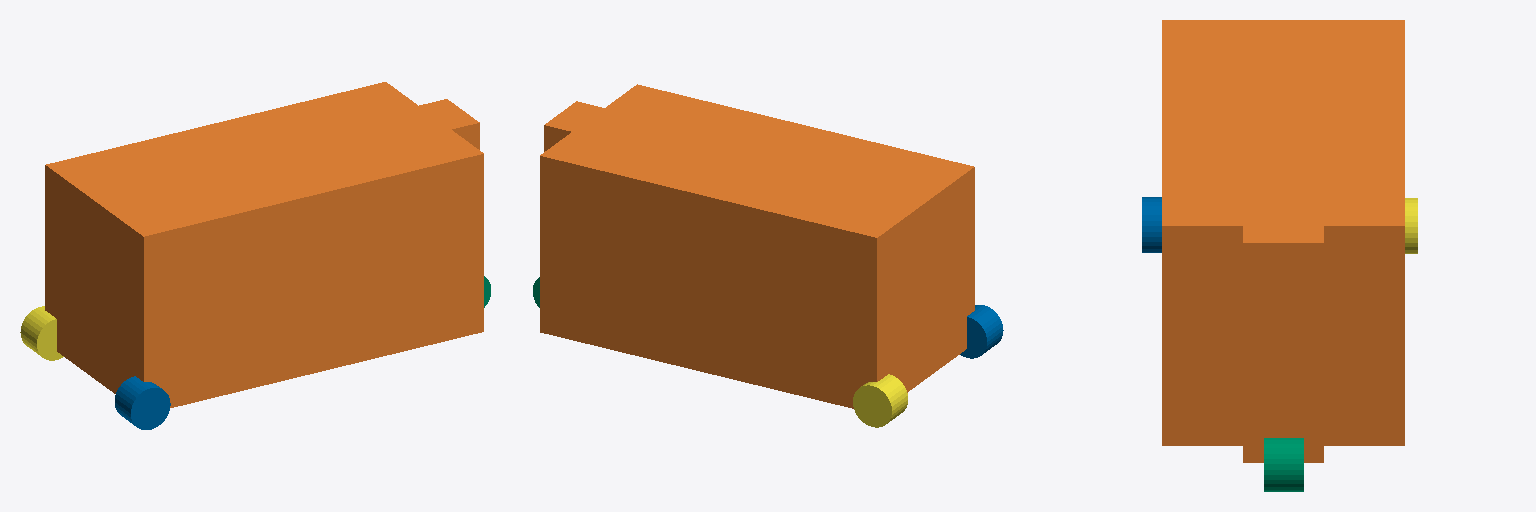
The robot description file, URDF, robot "tortoisebot":
<?xml version="1.0"?>
<robot name="tortoisebot">
    <link name="base_link">
    <visual>
        <geometry>
            <box size="0.6 0.3 0.3"/>
        </geometry>
        <material name="silver">
            <color rgba="0.95 0.55 0.23 1"/>
        </material>
    </visual>

    <collision>
        <geometry>
            <box size="0.6 0.3 0.3"/>
        </geometry>>
    </collision>>

    <inertial>
        <mass value="1.0"/>
         <inertia ixx="0.015" ixy="0.0" ixz="0.0"
          iyy="0.0375" iyz="0.0" izz="0.0375"/>
    </inertial>

    </link>
        
    <link name="front_caster">
        <visual>
            <geometry>
            <box size="0.1 0.1 0.3"/>
            </geometry>
            <material name="silver"/>
        </visual>
        <collision>
            <geometry>
                <box size="0.1 0.1 0.3"/>
            </geometry>
        </collision>
        <inertial>
            <mass value="0.1"/>
            <inertia ixx="0.00083" ixy="0.0" ixz="0.0"
             iyy="0.00083" iyz="0.0" izz="0.00016"/>
        </inertial>
    </link>

    <joint name="front_caster_joint" type="continuous">
        <axis xyz="0 0 1"/>
        <parent link="base_link"/>
        <child link="front_caster"/>
        <origin rpy="0 0 0" xyz="0.3 0 0"/>
    </joint>

    <link name="front_wheel">
        <visual>
            <geometry>
            <cylinder length="0.05" radius="0.035"/>
            </geometry>
            <material name="black"/>
        </visual>

        <collision>
            <geometry>
                <box size="0.07 0.07 0.05"/>
            </geometry>
        </collision>

        <inertial>
            <mass value="0.01"/>
            <inertia ixx="0.000447291666666667" ixy="0.0" ixz="0.0"
                 iyy="0.000447291666666667" iyz="0.0" izz="6.125e-05"/>
        </inertial>

    </link>

    <joint name="front_wheel_joint" type="continuous">
    <axis xyz="0 0 1"/>
    <parent link="front_caster"/>
    <child link="front_wheel"/>
    <origin rpy="-1.5708 0 0" xyz="0.05 0 -.15"/>
    </joint>
    

    <link name="right_wheel">
        <visual>
        <geometry>
            <cylinder length="0.05" radius="0.035"/>
        </geometry>
        <material name="black"/>
        </visual>
          <collision>
            <geometry>
                <box size="0.07 0.07 0.05"/>
            </geometry>
        </collision>

        <inertial>
             <mass value="0.01"/>
            <inertia ixx="0.000447291666666667" ixy="0.0" ixz="0.0"
                 iyy="0.000447291666666667" iyz="0.0" izz="6.125e-05"/>
        </inertial>
    </link>

    <joint name="right_wheel_joint" type="continuous">
    <axis xyz="0 0 1"/>
    <parent link="base_link"/>
    <child link="right_wheel"/>
    <origin rpy="-1.5708 0 0" xyz="-0.3 0.14 -0.13"/>
    </joint>
    


    <link name="left_wheel">
        <visual>
        <geometry>
        <cylinder length="0.05" radius="0.035"/>
        </geometry>
        <material name="black"/>
        </visual>
          <collision>
            <geometry>
                <box size="0.07 0.07 0.05"/>
            </geometry>
        </collision>

        <inertial>
             <mass value="0.01"/>
            <inertia ixx="0.000447291666666667" ixy="0.0" ixz="0.0"
                 iyy="0.000447291666666667" iyz="0.0" izz="6.125e-05"/>
        </inertial>
    </link>

    <joint name="left_whel_joint" type="continuous">
    <axis xyz="0 0 1"/>
    <parent link="base_link"/>
    <child link="left_wheel"/>
    <origin rpy="-1.5708 0 0" xyz ="-0.3017 -0.1498 -0.1295"/>
    </joint>
    
    </robot>

    

--- What the picture shows (computed from the rendered views, not written in the file) ---
Views: 3 orthographic renders of the robot side by side, from view 1: azimuth 30°, elevation 25°; view 2: azimuth 150°, elevation 25°; view 3: azimuth 270°, elevation 25°.
Model tortoisebot with 5 links and 4 joints (4 continuous), rooted at base_link, posed all joints at 0.
Links seen in each view (by area): view 1: base_link, left_wheel, right_wheel, front_caster; view 2: base_link, front_caster, right_wheel, left_wheel; view 3: base_link, front_caster, front_wheel, left_wheel, right_wheel.
Boxes of the visible links, bbox=[...] form: base_link: bbox=[45, 82, 483, 407]; left_wheel: bbox=[115, 376, 170, 429]; right_wheel: bbox=[20, 306, 63, 360]; front_caster: bbox=[392, 99, 479, 149]; base_link: bbox=[540, 84, 974, 408]; front_caster: bbox=[544, 101, 631, 151]; right_wheel: bbox=[853, 374, 907, 427]; left_wheel: bbox=[960, 305, 1003, 358]; base_link: bbox=[1162, 20, 1404, 445]; front_caster: bbox=[1243, 215, 1323, 462]; front_wheel: bbox=[1264, 438, 1303, 491]; left_wheel: bbox=[1142, 197, 1161, 252]; right_wheel: bbox=[1405, 198, 1417, 253].
Bounding box of the posed robot: 0.7217 × 0.3398 × 0.335 m (x, y, z).
Geometry: primitives only (box / cylinder / sphere), no mesh files.